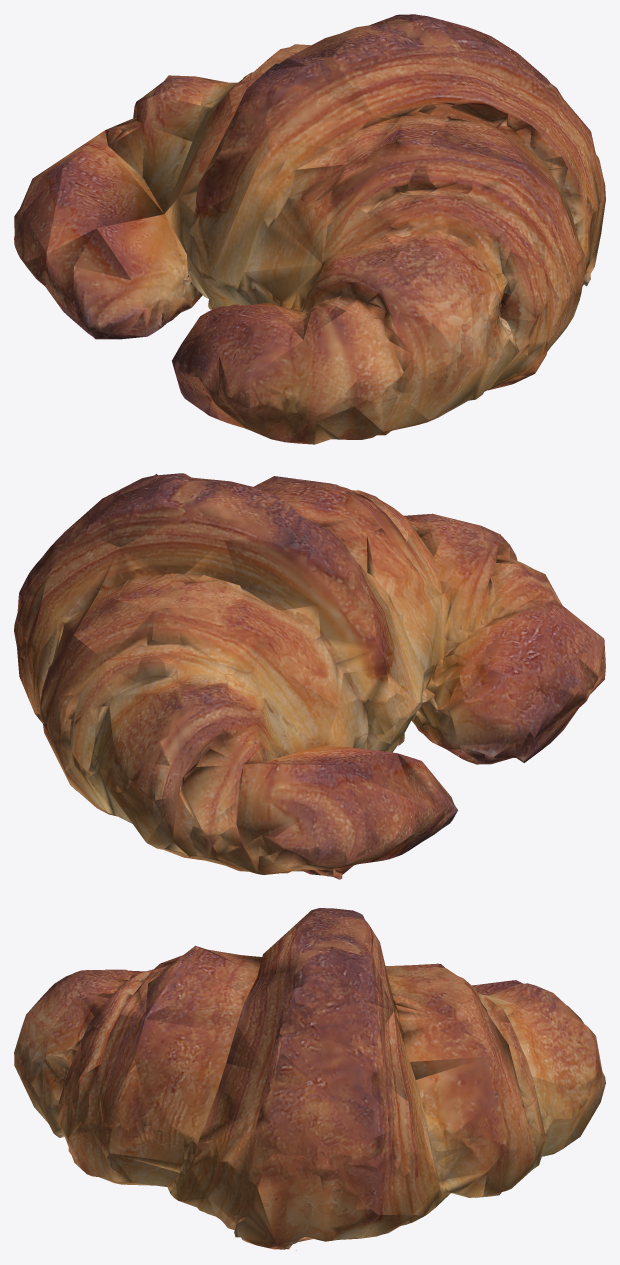
The model's file is Bread.fbx.
The picture shows the model from 3 angles, top to bottom: view 1: azimuth 30°, elevation 25°; view 2: azimuth 150°, elevation 25°; view 3: azimuth 270°, elevation 25°; orthographic projection. The views are drawn at different scales.
Parts seen in each view (by area): view 1: poly10kGEO; view 2: poly10kGEO; view 3: poly10kGEO.
Boxes of the visible parts, <box> form: poly10kGEO: <box>14,14,605,444</box>; poly10kGEO: <box>14,473,605,879</box>; poly10kGEO: <box>14,908,605,1250</box>.
Bounding box in the file's own units: 1.11 × 0.6465 × 1.33.
Materials: 1 (1 with a texture image).
